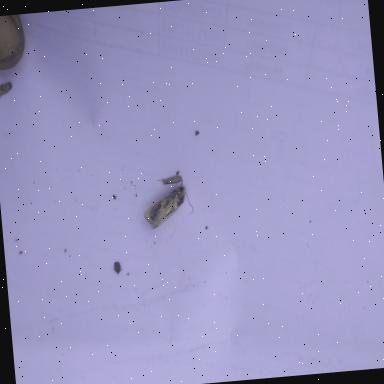pbw: (140, 180, 196, 232), (0, 81, 14, 99)
